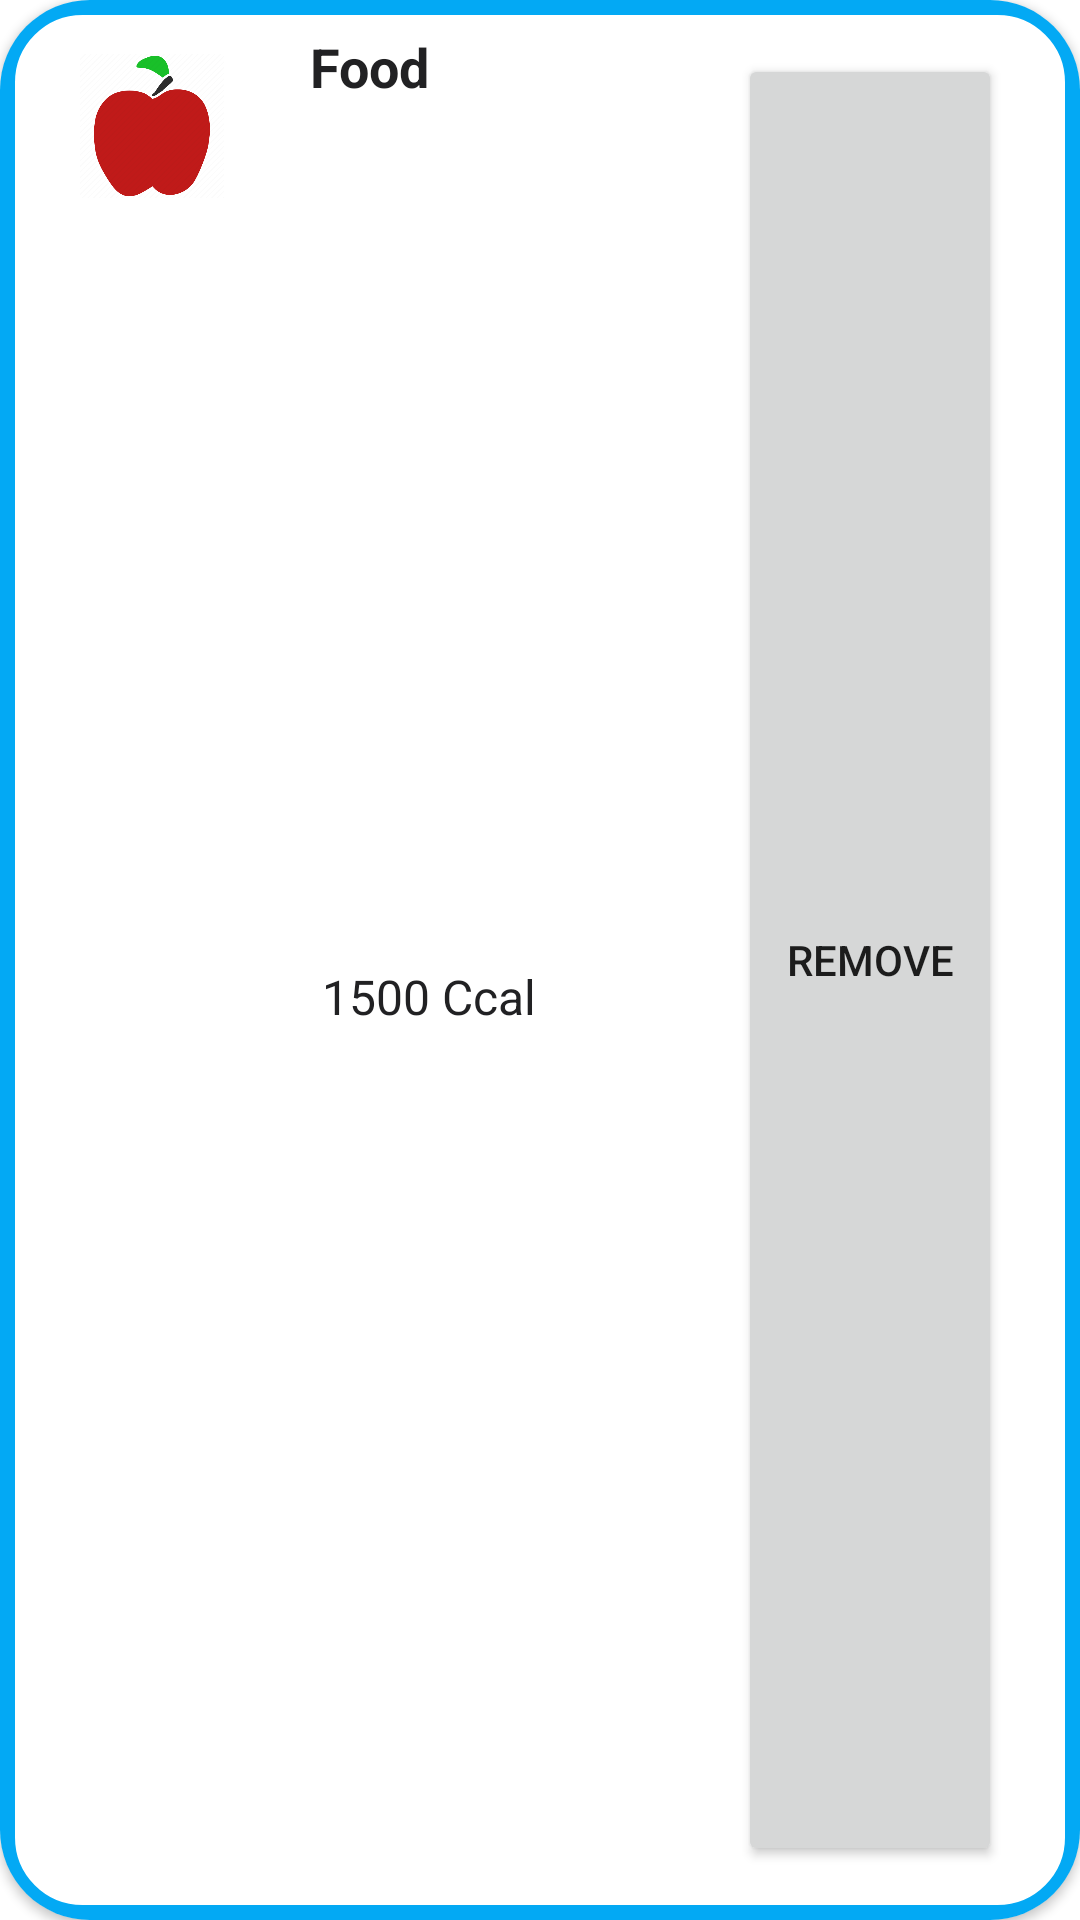

Where to tap for icons on this 1080×1920 app screen, as [x,y]:
apple: [152,126]
